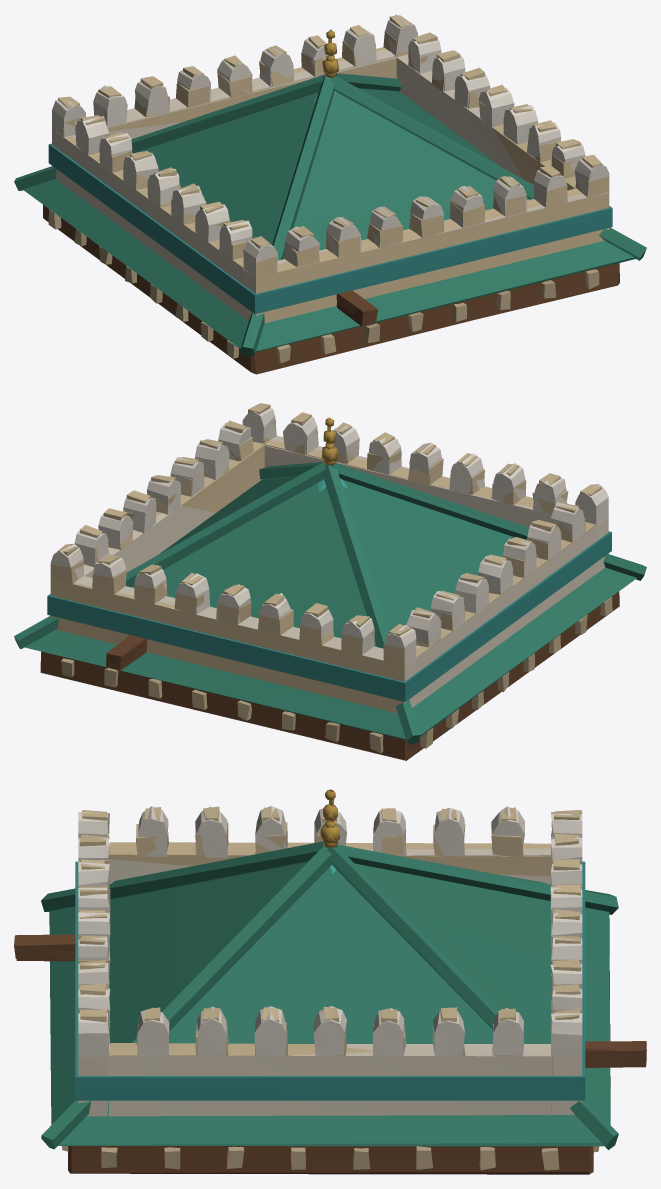
File: roof.hip.glb
3 views of the same model, one above another, from view 1: azimuth 30°, elevation 25°; view 2: azimuth 150°, elevation 25°; view 3: azimuth 270°, elevation 25° (orthographic). The views are drawn at different scales.
Parts seen in each view (by area): view 1: roof.hip.v1.mesh, roof.hip.v2.mesh, roof.hip.v0.mesh; view 2: roof.hip.v1.mesh, roof.hip.v2.mesh, roof.hip.v0.mesh; view 3: roof.hip.v1.mesh, roof.hip.v2.mesh, roof.hip.v0.mesh.
Part boxes in pixels (x1,y1,x2,y2): roof.hip.v1.mesh: (14, 29, 646, 374); roof.hip.v2.mesh: (48, 14, 612, 326); roof.hip.v0.mesh: (52, 15, 609, 323); roof.hip.v1.mesh: (14, 417, 646, 760); roof.hip.v2.mesh: (47, 407, 611, 707); roof.hip.v0.mesh: (50, 403, 602, 713); roof.hip.v1.mesh: (41, 789, 618, 1174); roof.hip.v2.mesh: (14, 806, 646, 1116); roof.hip.v0.mesh: (16, 806, 646, 1116).
Bounding box in the file's own units: 2.31 × 1.21 × 2.51.
